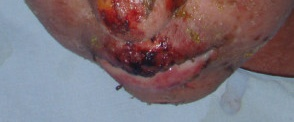SJS-TEN: (93, 0, 237, 101)
